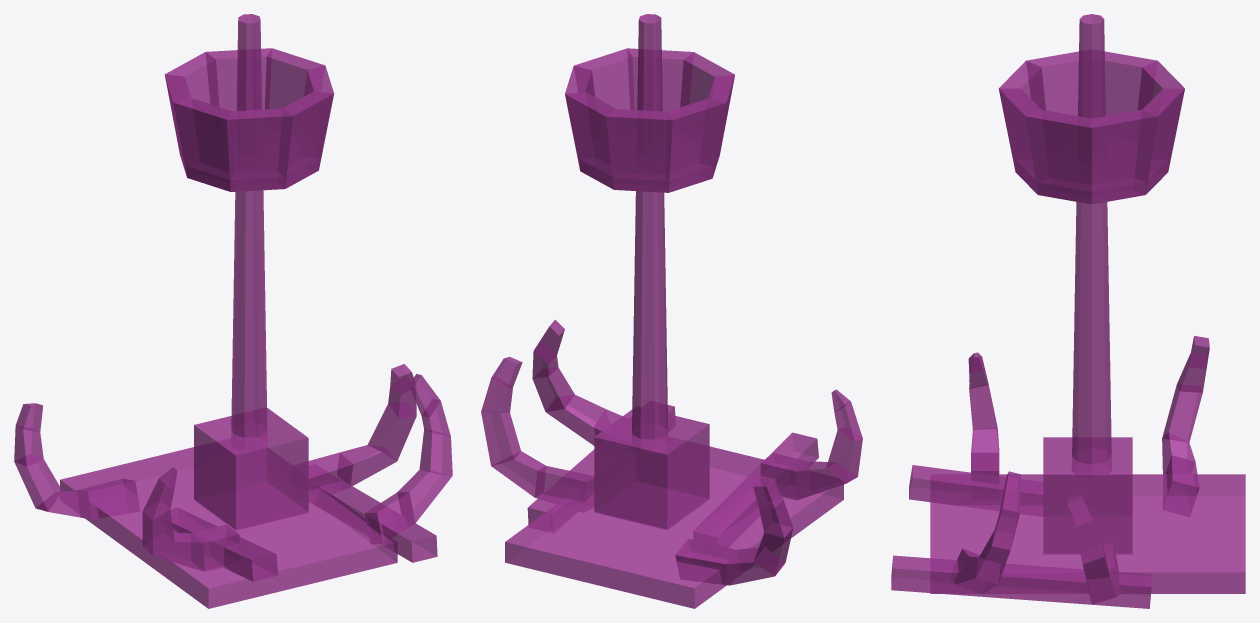
File: SM_Prop_Raft_01_Collision.fbx
The picture shows the model from 3 angles, left to right: view 1: azimuth 30°, elevation 25°; view 2: azimuth 150°, elevation 25°; view 3: azimuth 270°, elevation 25°; orthographic projection. The views are drawn at different scales.
Visible parts, largest first — view 1: SM_Prop_Raft_01_Collision; view 2: SM_Prop_Raft_01_Collision; view 3: SM_Prop_Raft_01_Collision.
Part boxes in pixels (x1,y1,x2,y2): SM_Prop_Raft_01_Collision: (14,14,452,608); SM_Prop_Raft_01_Collision: (481,14,862,608); SM_Prop_Raft_01_Collision: (891,14,1245,608).
Bounding box in the file's own units: 509 × 713 × 424.
